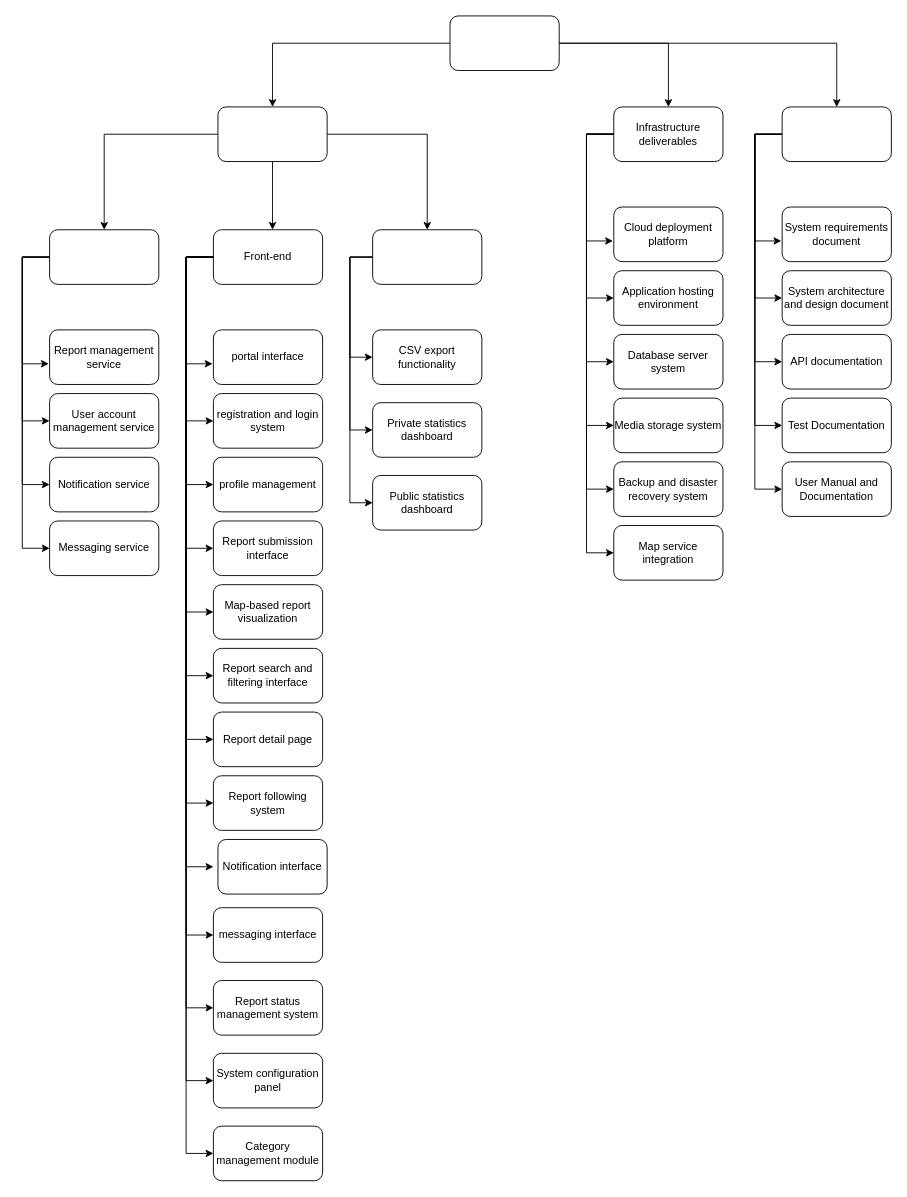
This 907x1197 diagram has some shape labels left out. Each missing label, with the centre of its shape:
Backend services: (x=104, y=256)
Documentation deliverables: (x=836, y=134)
Participium: (x=504, y=43)
Public transparency features: (x=427, y=256)
Software deliverables: (x=272, y=134)
